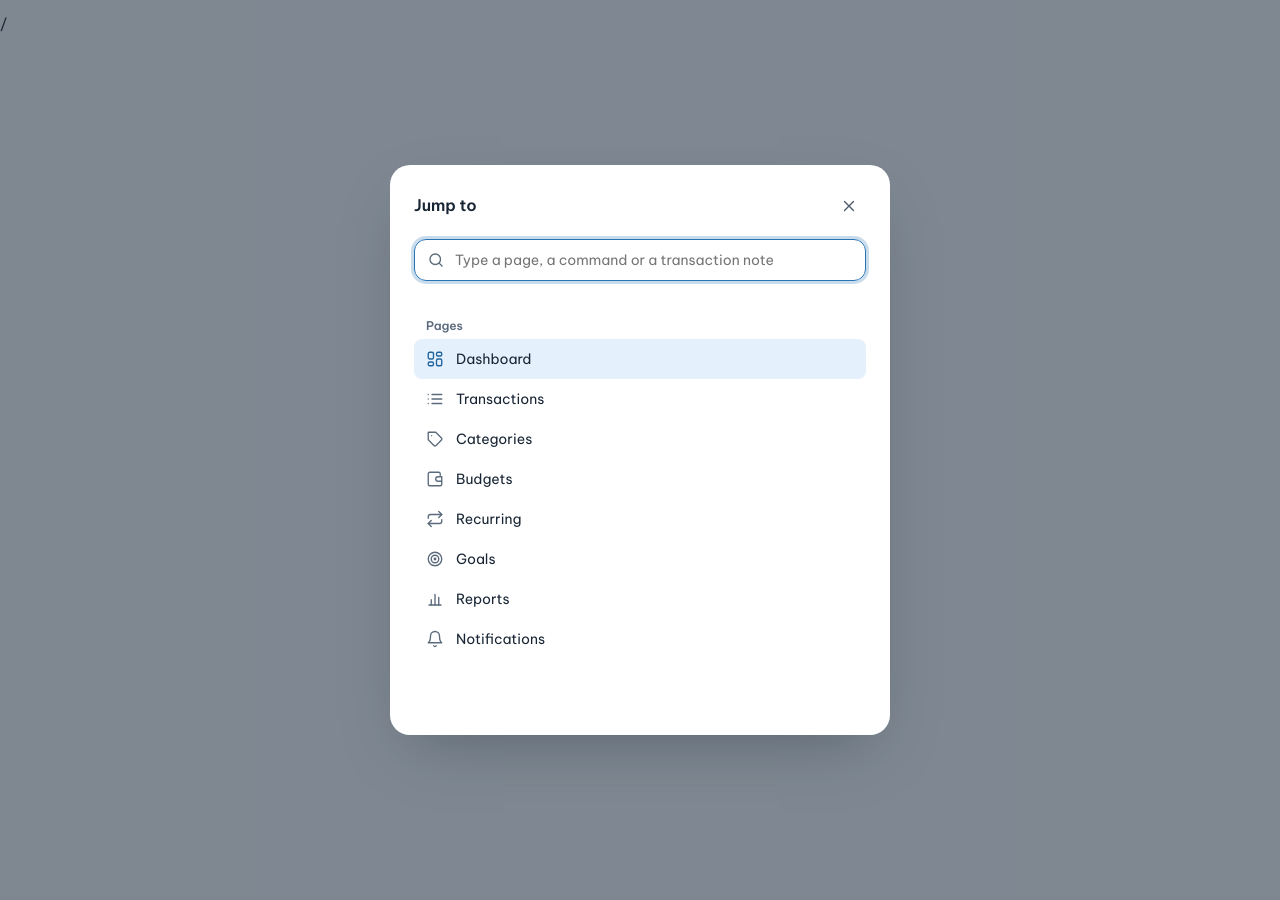
Test: CommandPalette › narrows the list while typing, and Enter jumps to the page
The image size is (1280, 900).
Type "budg" into the dropdown with test id "command-input".
click(653, 260); type("budg")  # box left=453, top=240, right=853, bottom=280
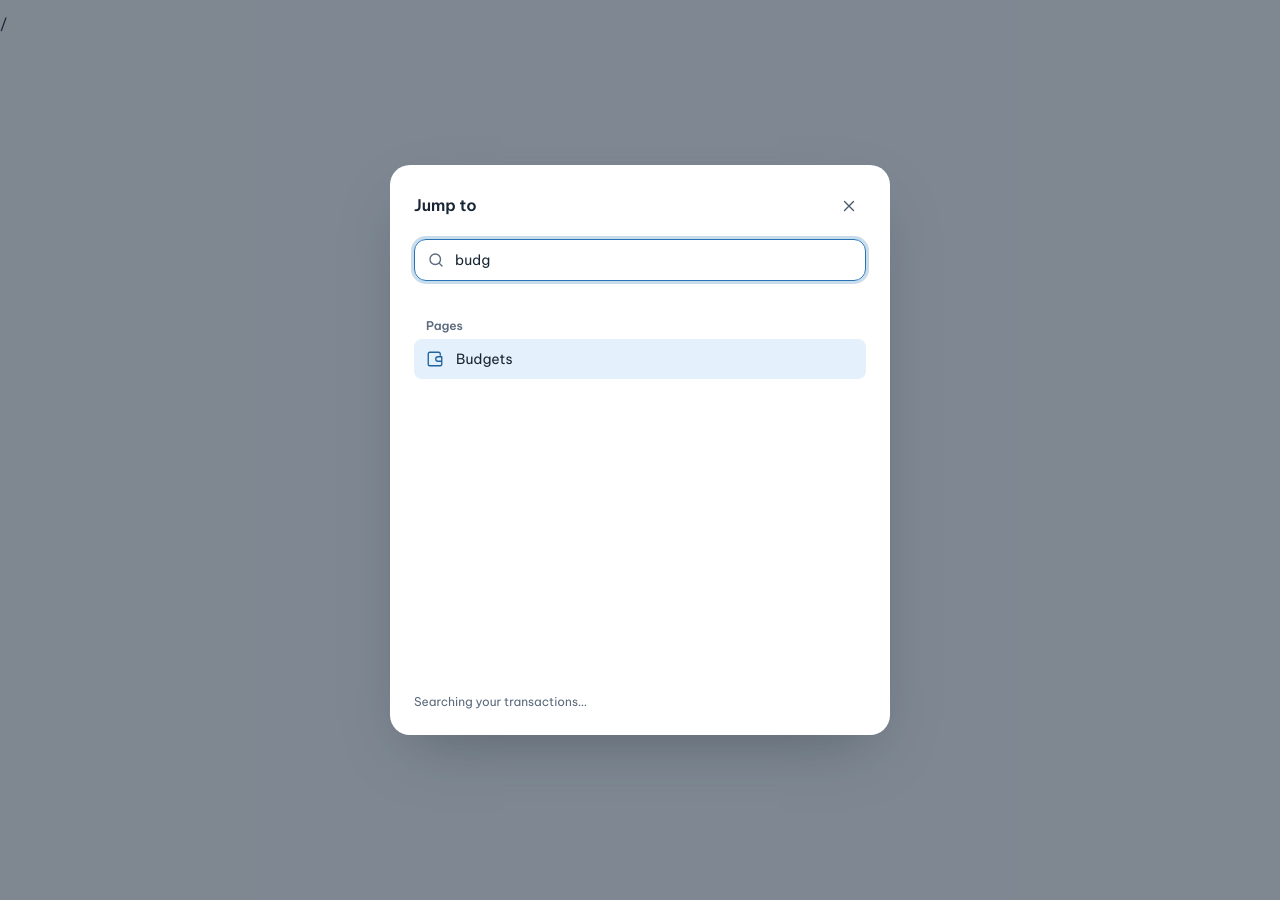
Expected: the options read "Budgets", in this order, left=414, top=339, right=866, bottom=379
Press Enter
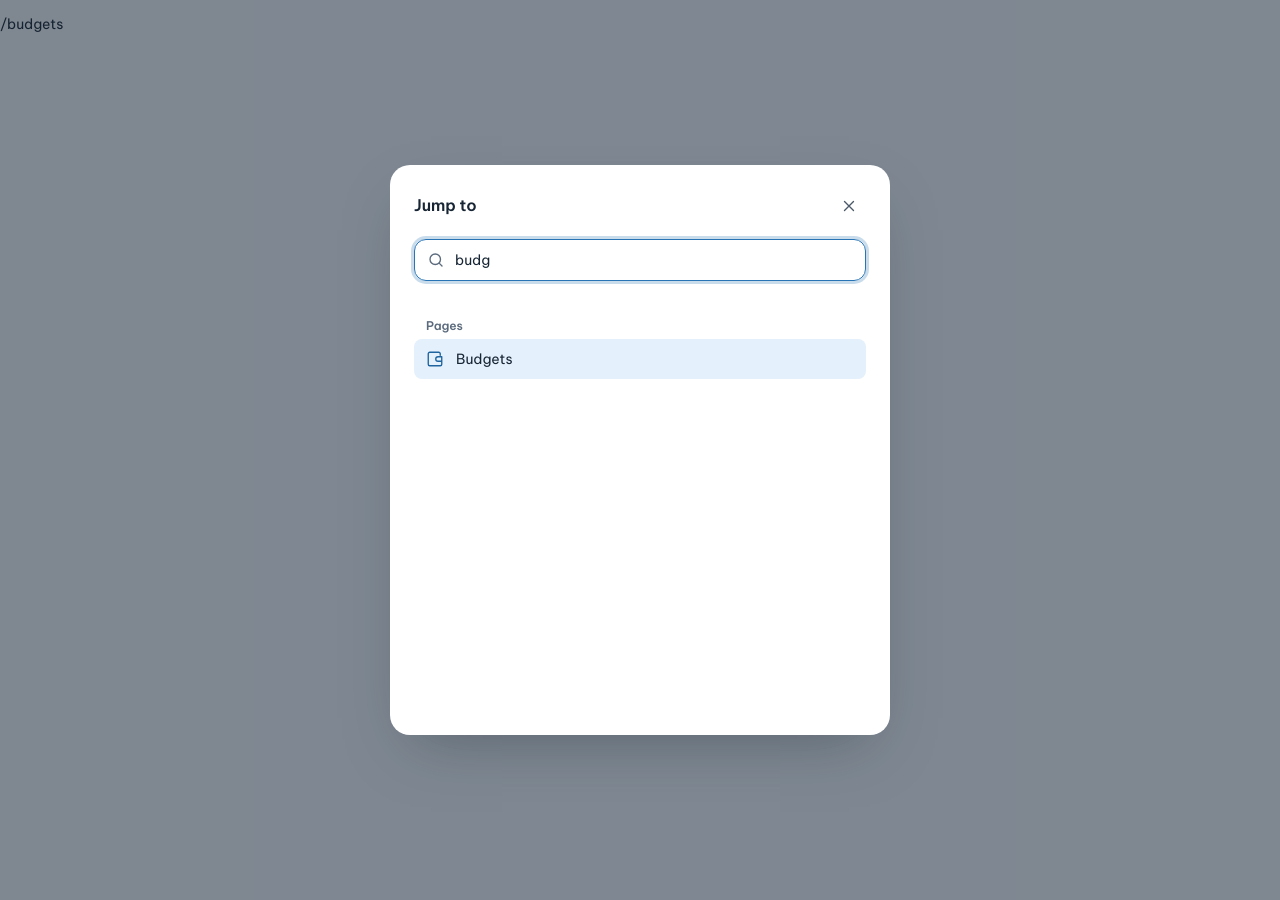
Expected: the text with test id "where" reads "/budgets", left=0, top=15, right=63, bottom=33
